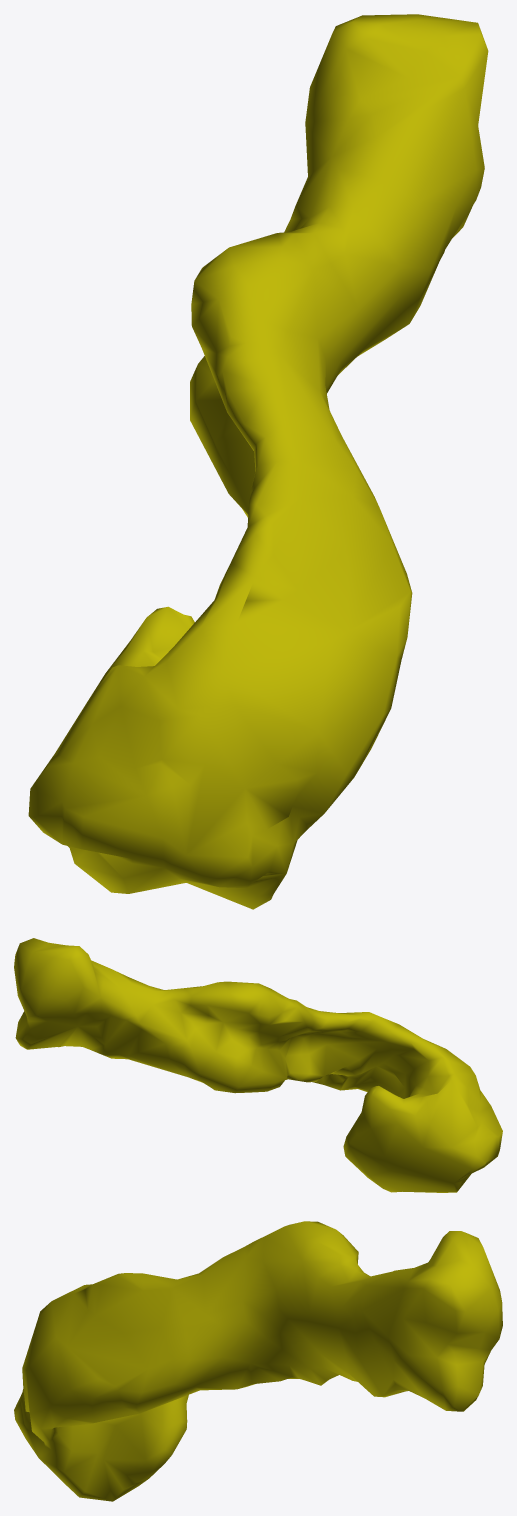
The picture shows the model from 3 angles, top to bottom: view 1: azimuth 30°, elevation 25°; view 2: azimuth 150°, elevation 25°; view 3: azimuth 270°, elevation 25°; orthographic projection. The views are drawn at different scales.
Visible parts, largest first — view 1: Polygonal_Model_12_Triangles_0; view 2: Polygonal_Model_12_Triangles_0; view 3: Polygonal_Model_12_Triangles_0.
Boxes of the visible parts, x1,y1,x2,y2 form: Polygonal_Model_12_Triangles_0: (28, 14, 488, 909); Polygonal_Model_12_Triangles_0: (14, 938, 502, 1192); Polygonal_Model_12_Triangles_0: (14, 1221, 502, 1501).
Bounding box in the file's own units: 4.35 × 3.49 × 3.95.
